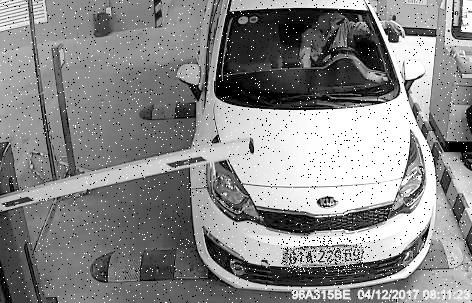License-plate: (283, 238, 372, 275)
